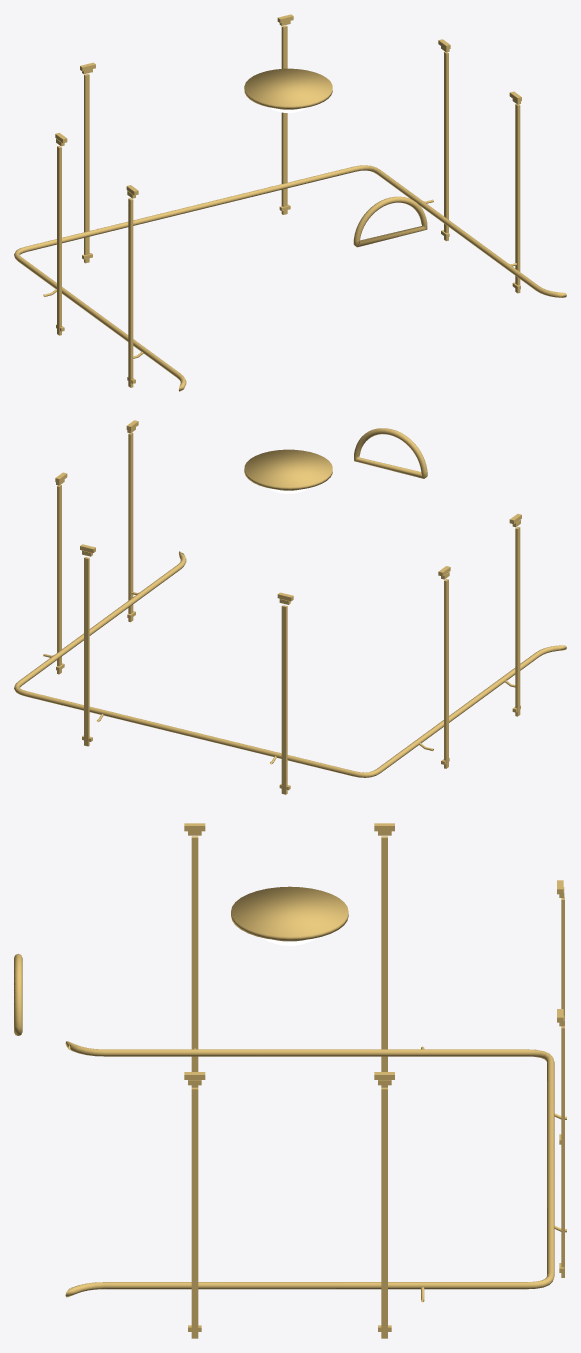
Rendered from cabineDeco.glb.
The picture shows the model from 3 angles, top to bottom: view 1: azimuth 30°, elevation 25°; view 2: azimuth 150°, elevation 25°; view 3: azimuth 270°, elevation 25°; orthographic projection. The views are drawn at different scales.
Parts seen in each view (by area): view 1: latao; view 2: latao; view 3: latao.
Part boxes in pixels (x1,y1,x2,y2): latao: [14, 14, 566, 391]; latao: [14, 420, 566, 794]; latao: [14, 823, 566, 1338].
Size of the model in its own units: 6.3 by 3.5 by 5.83.
